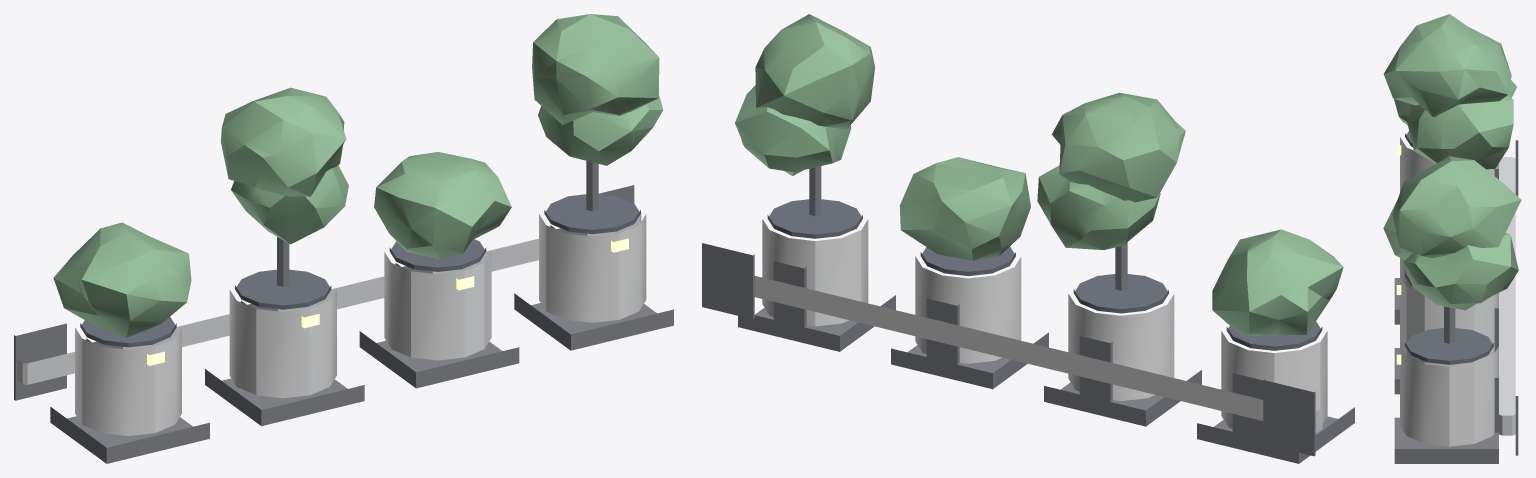
The model's file is iter_02.glb.
3 renders of one model, left to right at view 1: azimuth 30°, elevation 25°; view 2: azimuth 150°, elevation 25°; view 3: azimuth 270°, elevation 25°, orthographic. The views are drawn at different scales.
Parts seen in each view (by area): view 1: Foliage, Pots, Cradles, Grow_Lids, Wall_Rail, Wall_Plates, Stems, Pot_Latches; view 2: Foliage, Pots, Wall_Rail, Cradles, Grow_Lids, Wall_Plates, Cradle_Hooks, Stems; view 3: Foliage, Pots, Wall_Rail, Cradles, Grow_Lids, Cradle_Hooks, Wall_Plates, Stems, Pot_Latches.
Boxes of the visible parts, x1,y1,x2,y2 form: Foliage: [53, 14, 663, 337]; Pots: [75, 214, 646, 435]; Cradles: [50, 293, 673, 463]; Grow_Lids: [80, 194, 640, 347]; Wall_Rail: [17, 212, 641, 384]; Wall_Plates: [14, 185, 634, 400]; Stems: [277, 161, 598, 286]; Pot_Latches: [147, 238, 628, 365]; Foliage: [735, 14, 1343, 335]; Pots: [762, 219, 1327, 428]; Wall_Rail: [754, 276, 1322, 432]; Cradles: [738, 295, 1354, 463]; Grow_Lids: [767, 199, 1322, 350]; Wall_Plates: [702, 243, 1315, 456]; Cradle_Hooks: [773, 261, 1265, 438]; Stems: [809, 166, 1127, 290]; Foliage: [1383, 14, 1521, 310]; Pots: [1400, 137, 1498, 446]; Wall_Rail: [1499, 157, 1515, 435]; Cradles: [1394, 278, 1498, 463]; Grow_Lids: [1405, 131, 1493, 364]; Cradle_Hooks: [1494, 169, 1498, 432]; Wall_Plates: [1515, 140, 1518, 455]; Stems: [1444, 306, 1455, 343]; Pot_Latches: [1396, 145, 1401, 364].
Bounding box in the file's own units: 1.2 × 0.5598 × 0.2517.
